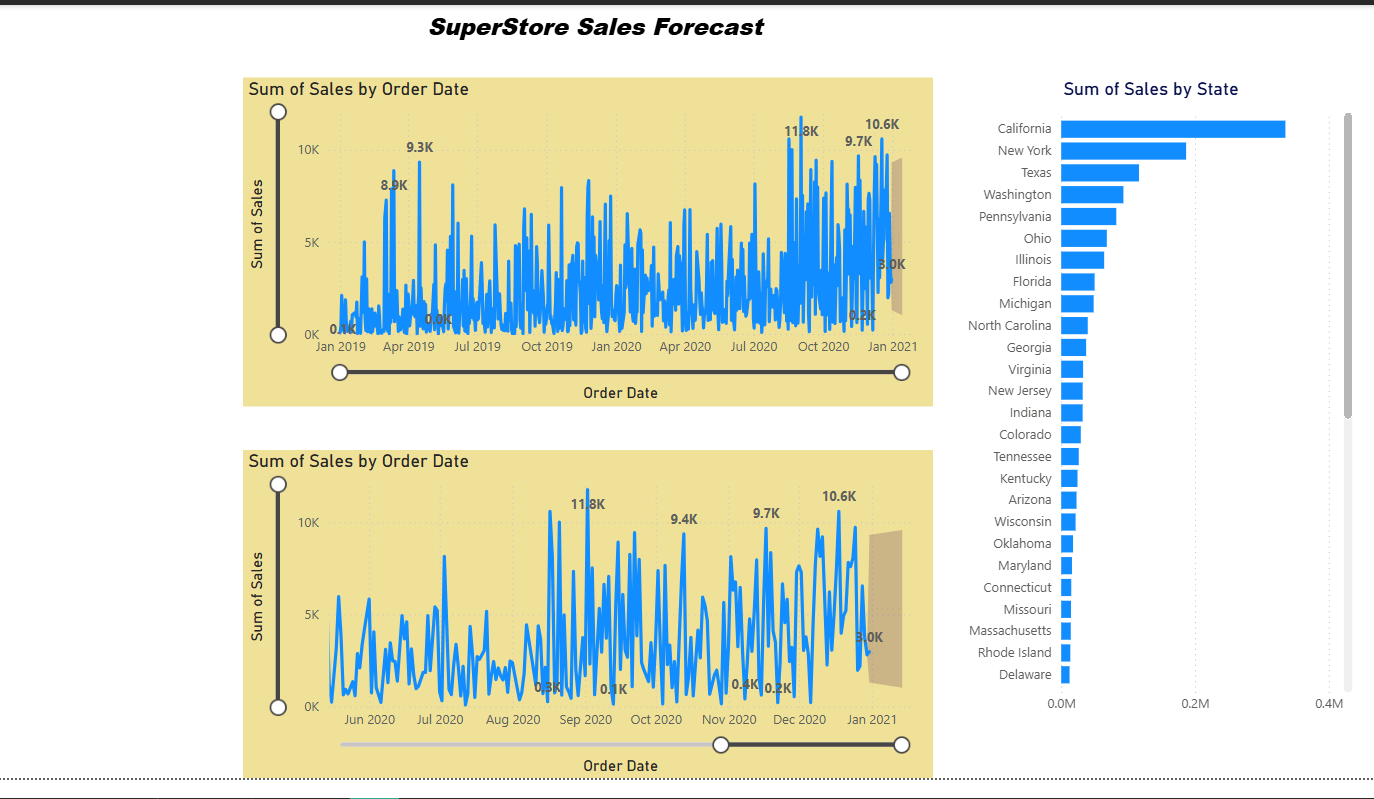

This screenshot's page, from the dashboard's own definition file:
{"tool":"powerbi","page":{"name":"Page 2","canvas":[1280,720],"ordinal":1},"visuals":[{"type":"lineChart","fields":{"Y":["Sum(SuperStore_Sales_Dataset (2).Sales)"],"Category":["SuperStore_Sales_Dataset (2).Order Date"]},"box":[227.9,67.4,641.9,305.8],"z":1000},{"type":"lineChart","fields":{"Y":["Sum(SuperStore_Sales_Dataset (2).Sales)"],"Category":["SuperStore_Sales_Dataset (2).Order Date"]},"box":[227.9,414,641.9,305.8],"z":1001},{"type":"textbox","box":[240.7,0,629.1,59.3],"z":1002},{"type":"barChart","fields":{"Y":["Sum(SuperStore_Sales_Dataset (2).Sales)"],"Category":["SuperStore_Sales_Dataset (2).State"]},"box":[880.2,67.4,384.9,601.2],"z":1003}]}

Visuals, with their boxes on the page's 1280x720 design canvas (x1, y1, x2, y2). These are canvas units, not pixel positions in the 1374x799 screenshot, which may show the page scaled, cropped or inside an application window:
lineChart - Sum(SuperStore_Sales_Dataset (2).Sales) x SuperStore_Sales_Dataset (2).Order Date: [left=228, top=67, right=870, bottom=373]
lineChart - Sum(SuperStore_Sales_Dataset (2).Sales) x SuperStore_Sales_Dataset (2).Order Date: [left=228, top=414, right=870, bottom=720]
textbox: [left=241, top=0, right=870, bottom=59]
barChart - Sum(SuperStore_Sales_Dataset (2).Sales) x SuperStore_Sales_Dataset (2).State: [left=880, top=67, right=1265, bottom=669]
